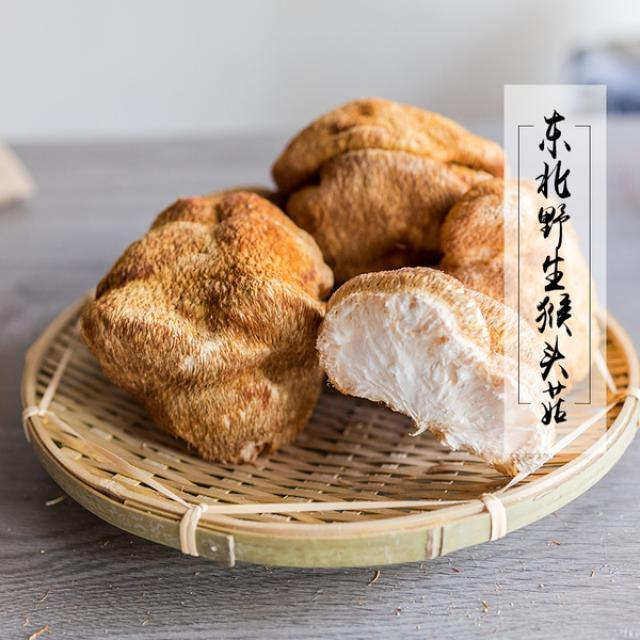Hericium erinaceus: (270, 98, 600, 379), (87, 186, 334, 458), (317, 266, 558, 478)
